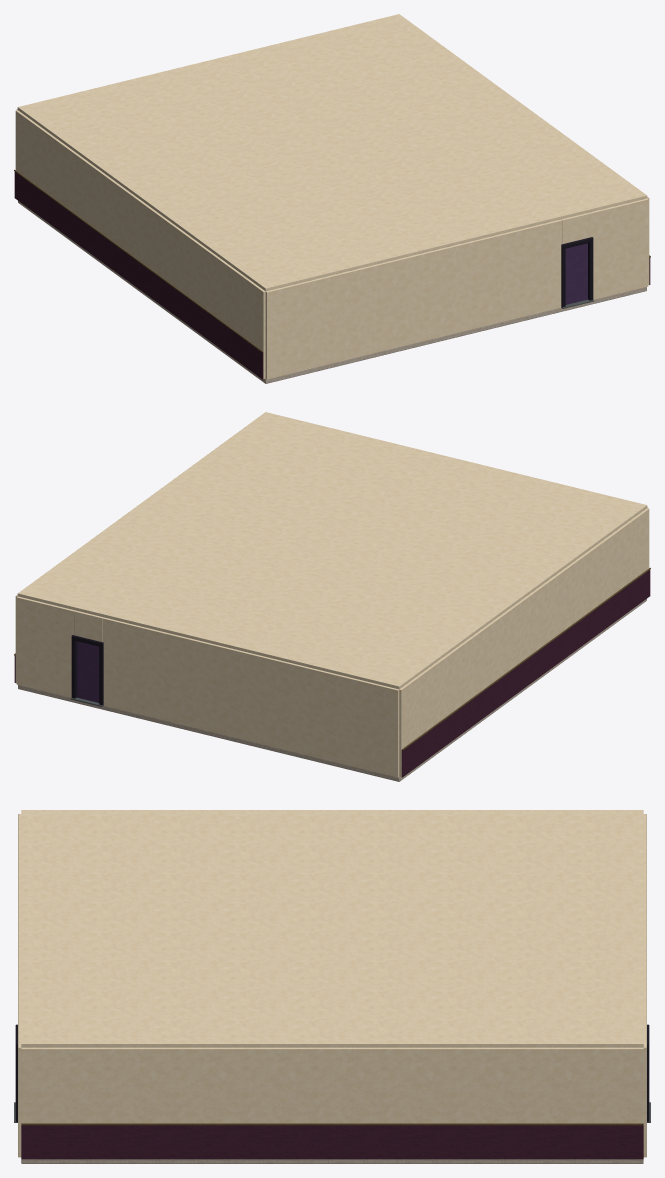
Rendered from explore3d__mirror_maze.glb.
3 renders of one model, top to bottom at view 1: azimuth 30°, elevation 25°; view 2: azimuth 150°, elevation 25°; view 3: azimuth 270°, elevation 25°, orthographic. The views are drawn at different scales.
Visible parts, largest first — view 1: ceiling.015, wall.039, wall.042, lower_panel.041, wall.038, mirror_maze_floor, front.020_leaf, door_lintel.009, panel_rail.041; view 2: ceiling.015, wall.040, wall.042, lower_panel.041, wall.041, mirror_maze_floor, north.007_leaf, door_lintel.010, panel_rail.041; view 3: ceiling.015, wall.043, lower_panel.042, mirror_maze_floor, panel_rail.042, wall.039, wall.040, wall.038, wall.041.
Boxes of the visible parts, x1,y1,x2,y2 form: ceiling.015: [17, 14, 647, 291]; wall.039: [265, 219, 562, 379]; wall.042: [15, 110, 265, 379]; lower_panel.041: [14, 172, 263, 379]; wall.038: [590, 198, 648, 299]; mirror_maze_floor: [18, 201, 646, 383]; front.020_leaf: [565, 243, 587, 304]; door_lintel.009: [562, 212, 590, 243]; panel_rail.041: [14, 169, 262, 352]; ceiling.015: [17, 412, 647, 689]; wall.040: [102, 617, 399, 777]; wall.042: [399, 508, 649, 777]; lower_panel.041: [401, 570, 650, 777]; wall.041: [16, 596, 74, 697]; mirror_maze_floor: [18, 599, 646, 781]; north.007_leaf: [77, 641, 99, 702]; door_lintel.010: [74, 610, 102, 641]; panel_rail.041: [402, 567, 650, 750]; ceiling.015: [21, 810, 643, 1047]; wall.043: [21, 1047, 643, 1123]; lower_panel.042: [21, 1125, 643, 1159]; mirror_maze_floor: [21, 1159, 643, 1163]; panel_rail.042: [21, 1123, 643, 1125]; wall.039: [18, 814, 21, 995]; wall.040: [643, 814, 646, 995]; wall.038: [18, 1012, 21, 1157]; wall.041: [643, 1012, 646, 1157].
Bounding box in the file's own units: 16.32 × 3.84 × 18.42.
Materials: 11 (9 with a texture image).
